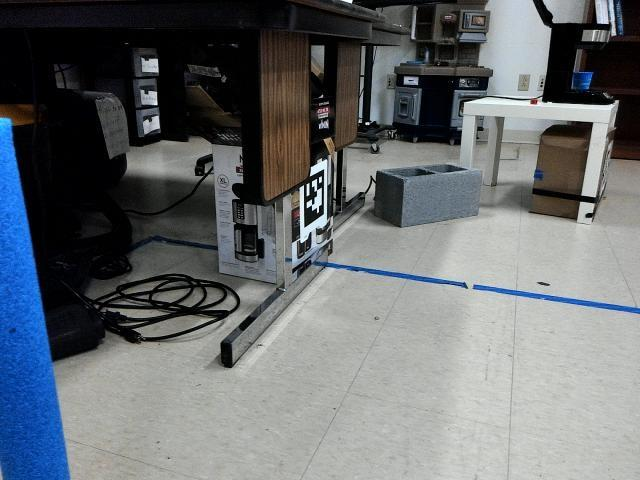noodle_handle: (1, 95, 76, 480)
